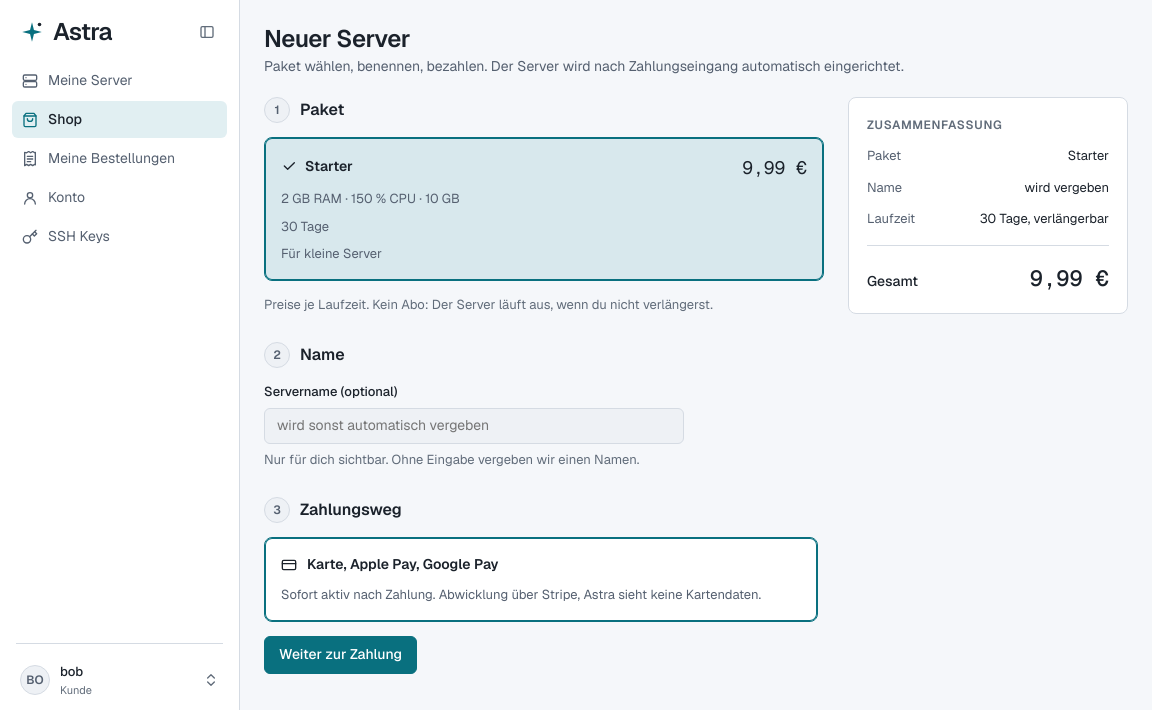
ShopPage › faellt bei fehlgeschlagenem Checkout auf die Bestaetigung mit Link zu den Bestellungen zurueck
The image size is (1152, 710).
What coordinates should you click on to do the following:
click the button "Weiter zur Zahlung"
I would click on:
 (341, 654)
Its box is [264,636,417,674].
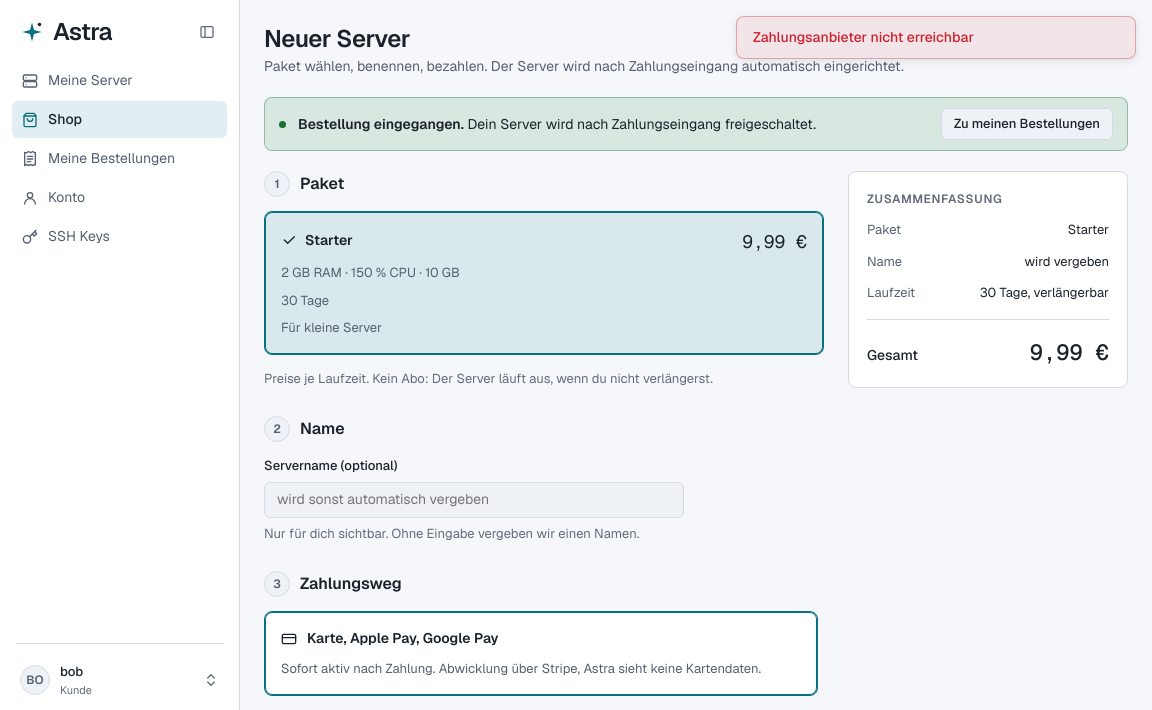
Expected: the text "Zahlungsanbieter nicht erreichbar" is shown, [736,16,1136,59]
Expected: the text "Bestellung eingegangen." is shown, [298,114,464,132]
